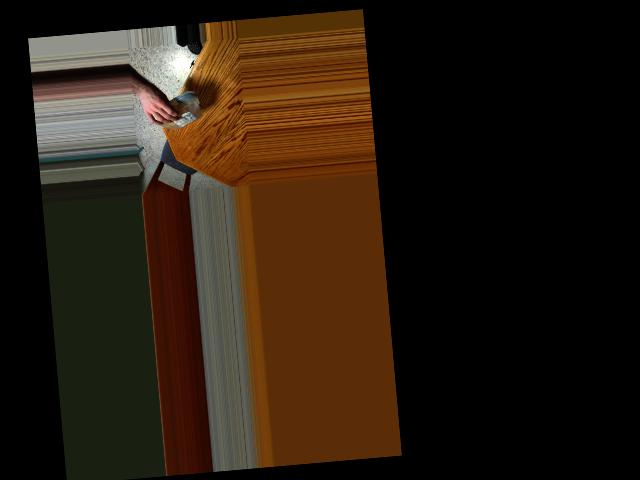cheese: (159, 95, 198, 127)
